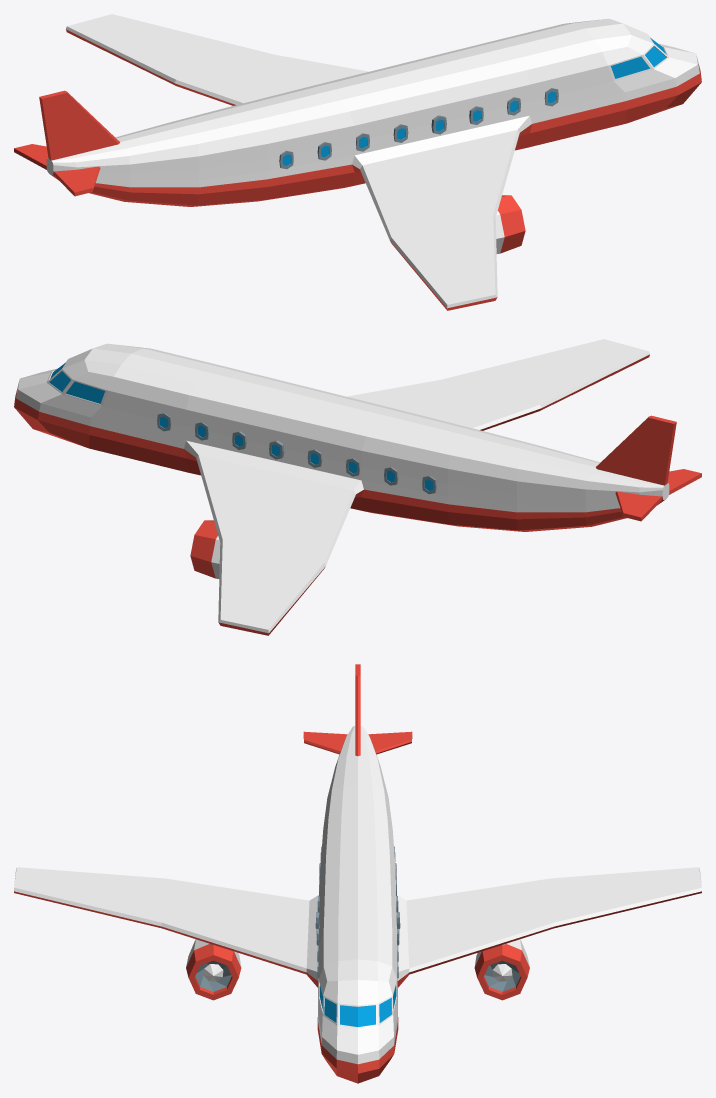
Rendered from transportAir-plane-red.glb.
3 renders of one model, top to bottom at view 1: azimuth 30°, elevation 25°; view 2: azimuth 150°, elevation 25°; view 3: azimuth 270°, elevation 25°, orthographic. The views are drawn at different scales.
Visible parts, largest first — view 1: node-0; view 2: node-0; view 3: node-0.
Part boxes in pixels (left/top/right/bottom): node-0: left=14, top=14, right=701, bottom=310; node-0: left=14, top=339, right=701, bottom=635; node-0: left=14, top=664, right=701, bottom=1083.
Bounding box in the file's own units: 37.34 × 10.1 × 37.59.
